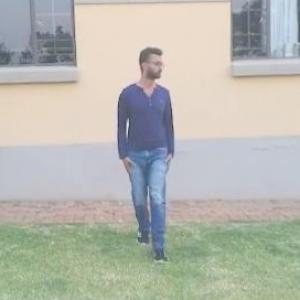follow: (110, 35, 184, 268)
